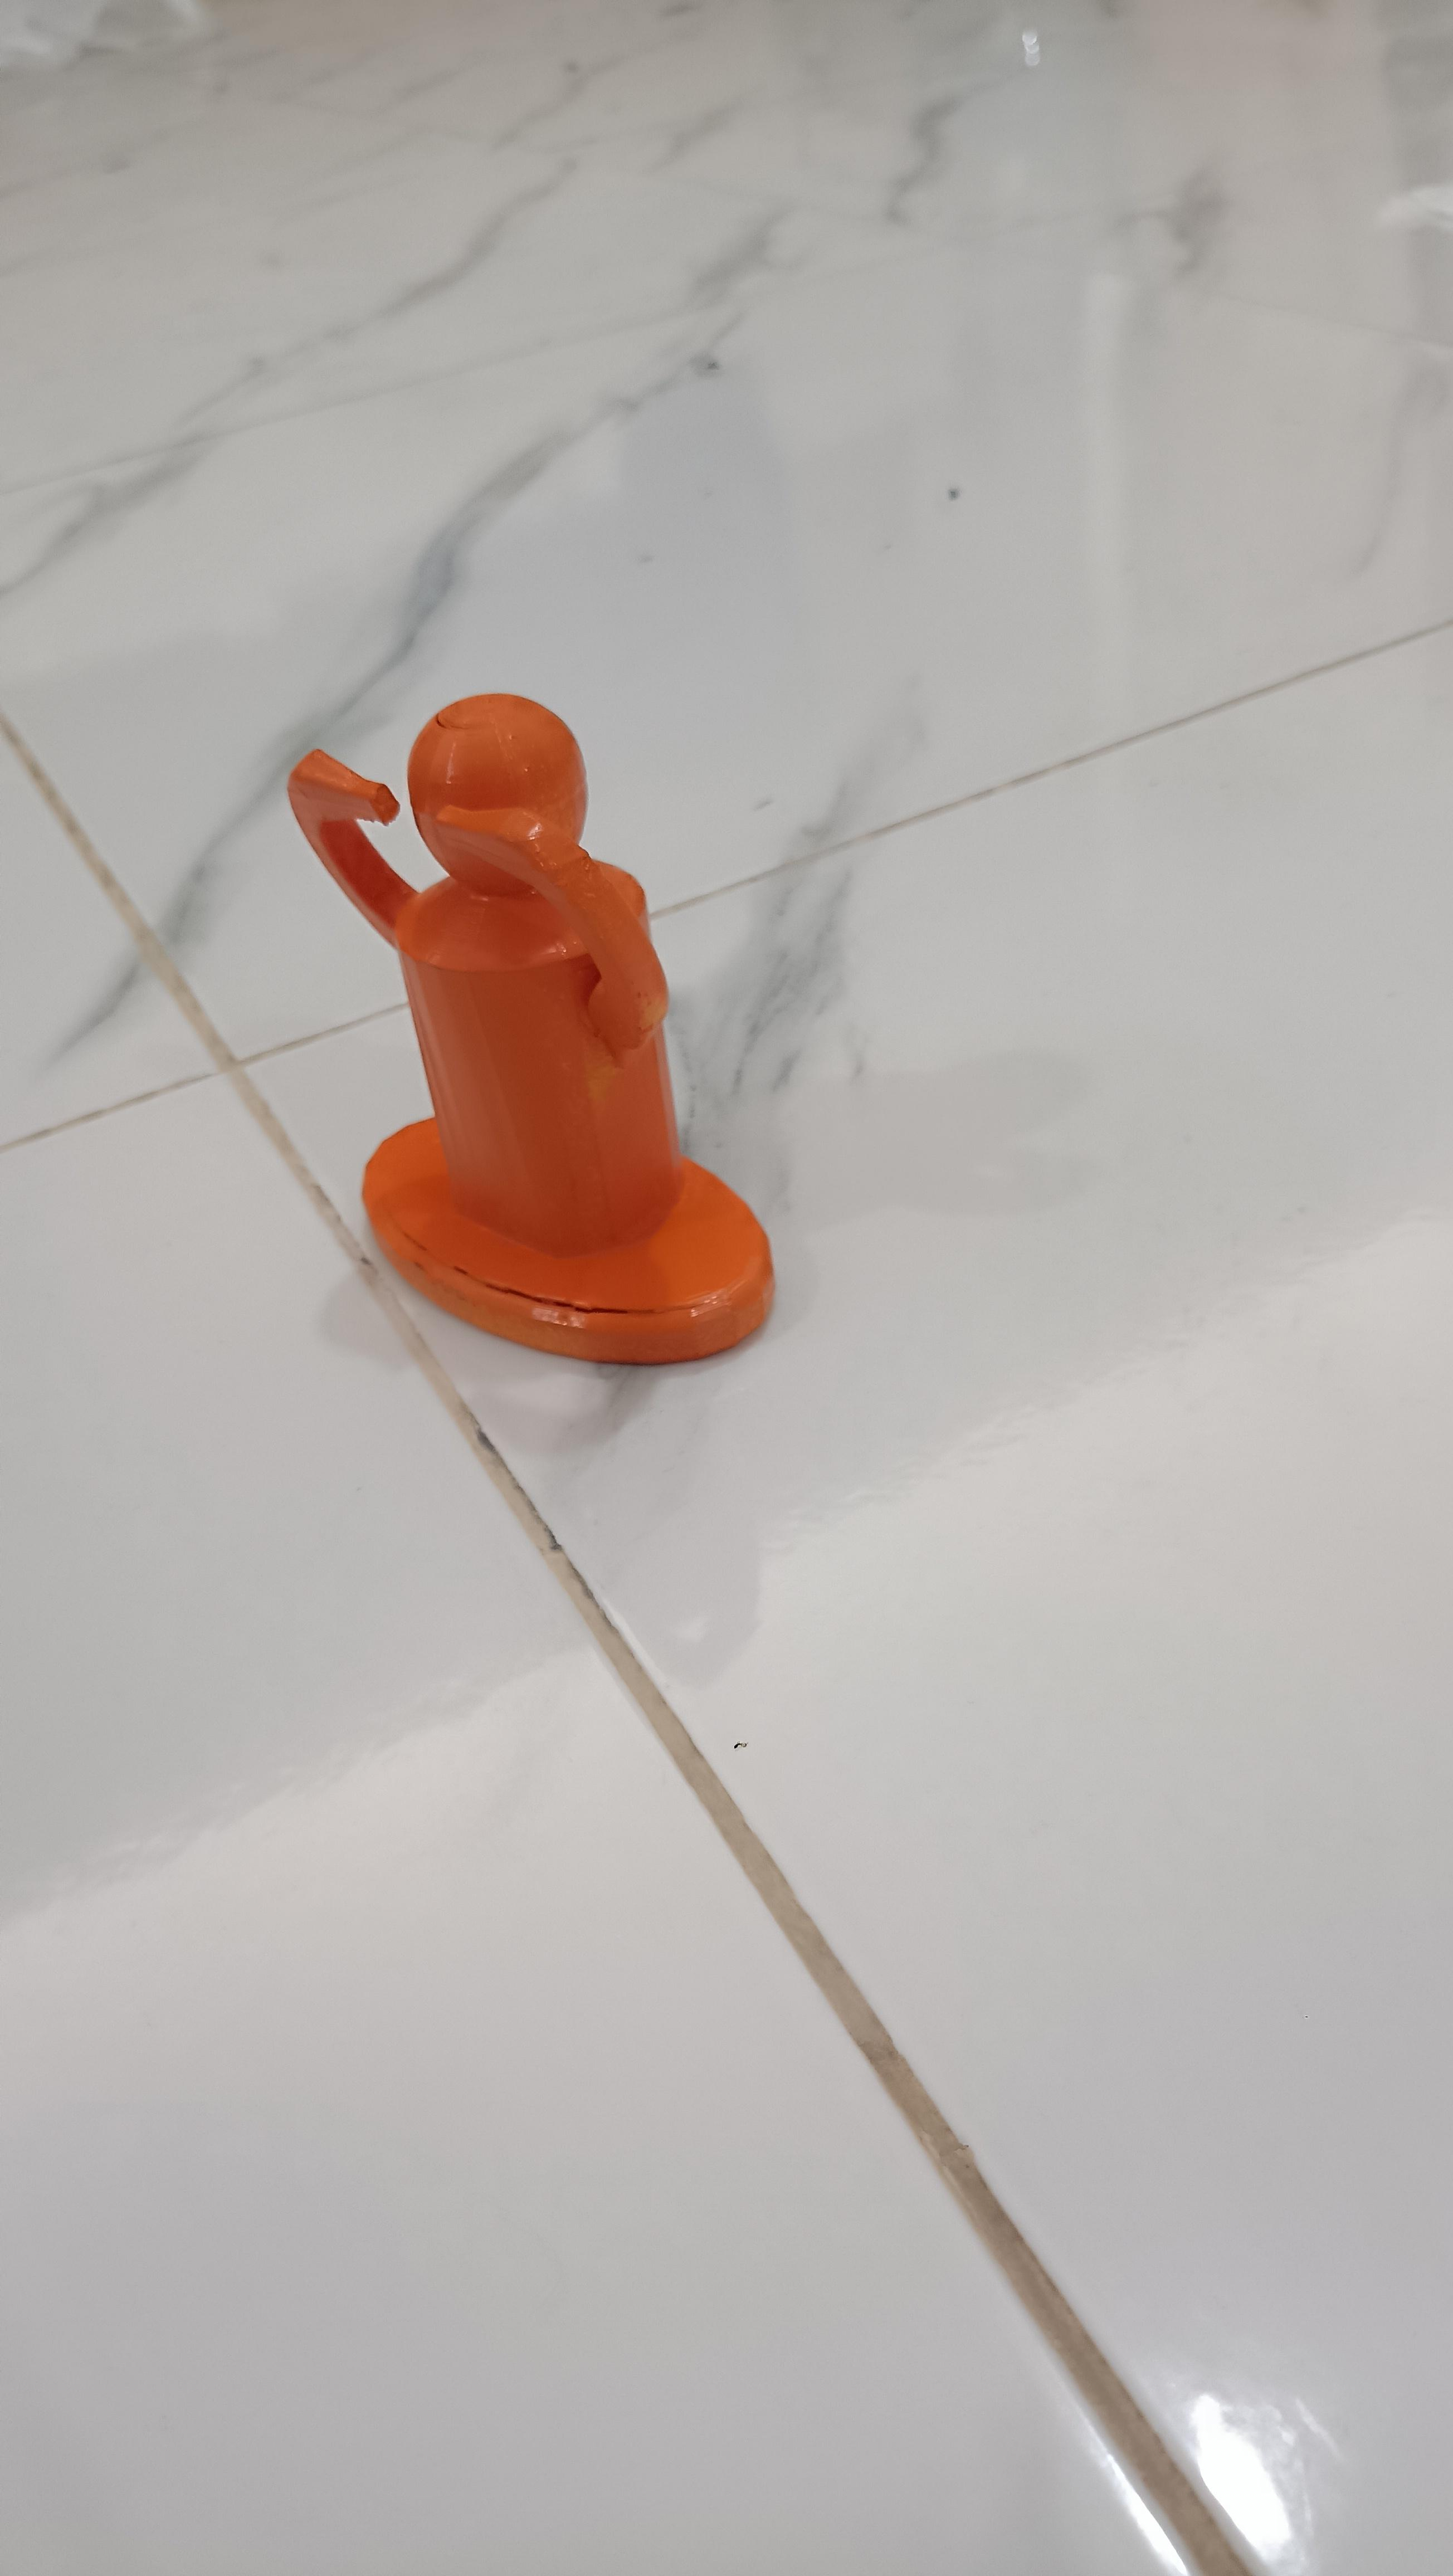real_person: (230, 632, 848, 1409)
